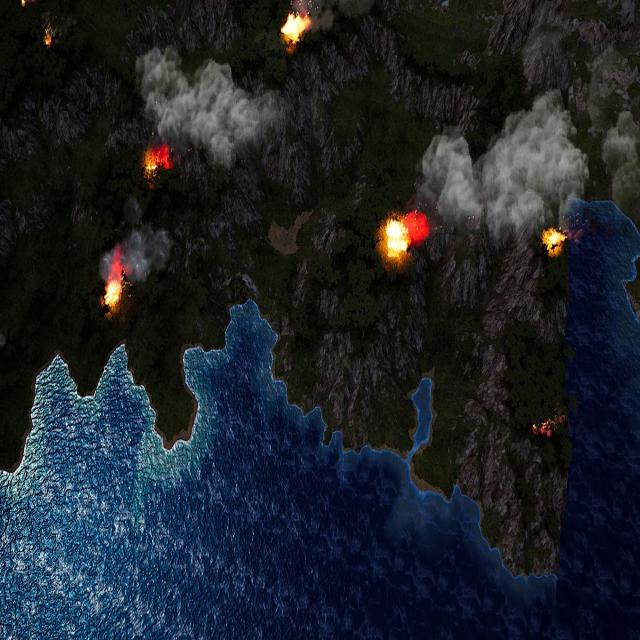fire: (384, 211, 430, 261), (384, 217, 409, 259), (142, 142, 169, 180), (280, 12, 311, 45), (102, 270, 122, 310), (531, 412, 557, 439), (542, 228, 563, 254), (43, 30, 52, 48), (19, 0, 26, 7)
smoke: (414, 77, 640, 235), (136, 44, 289, 173), (102, 198, 173, 285)
